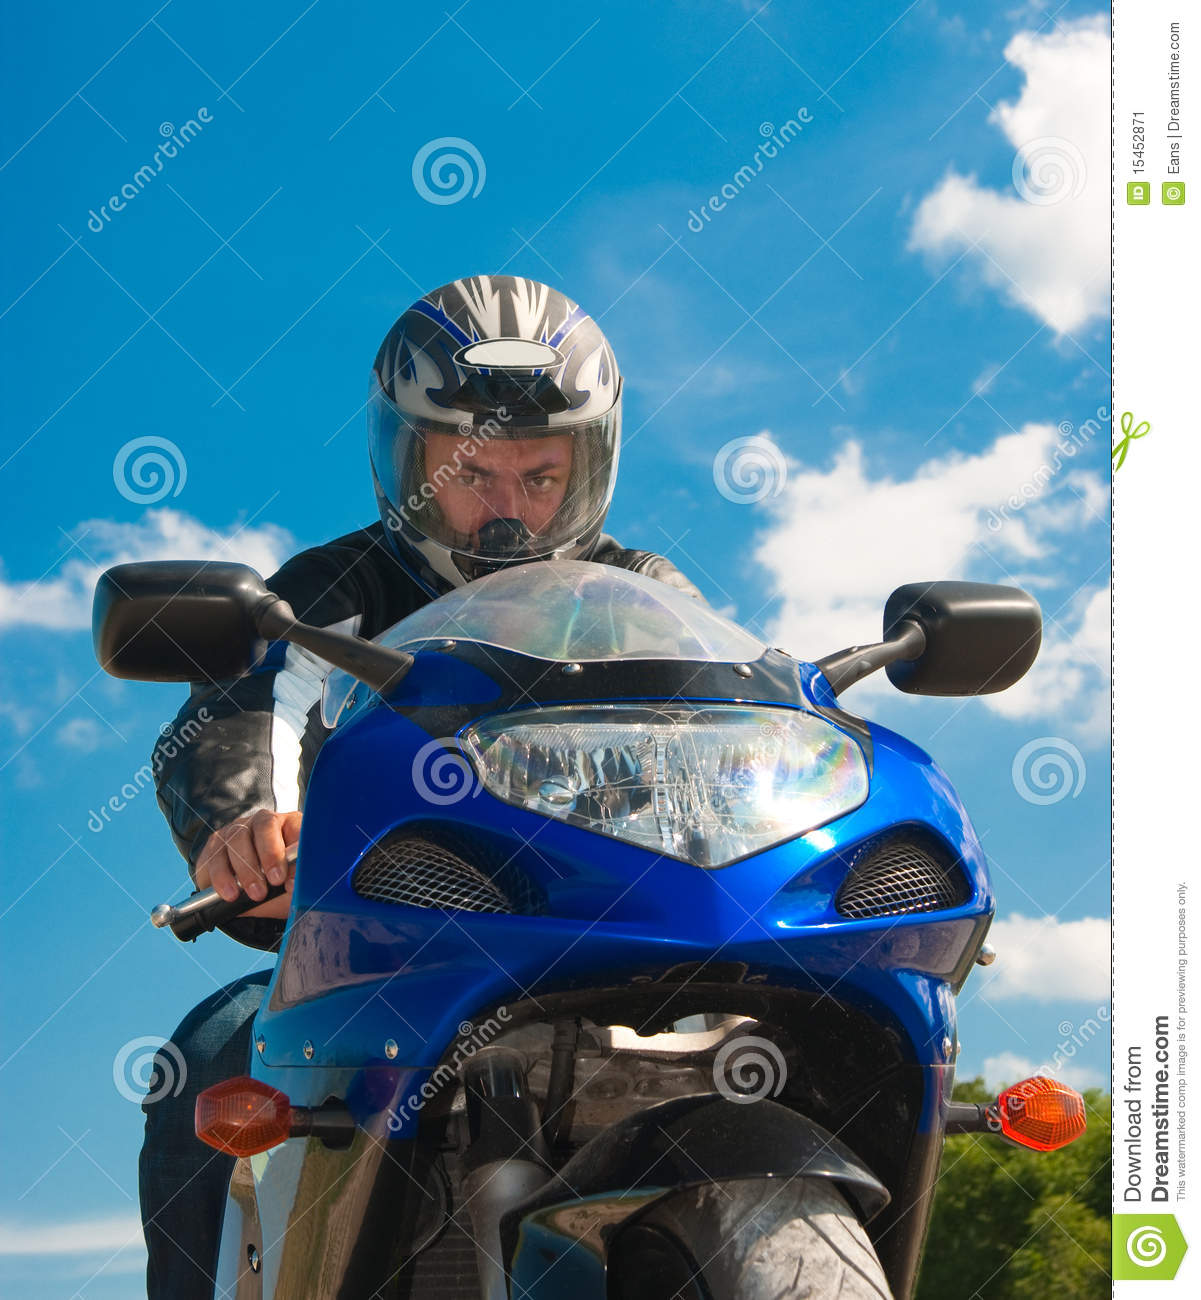helmet: (384, 275, 628, 557)
